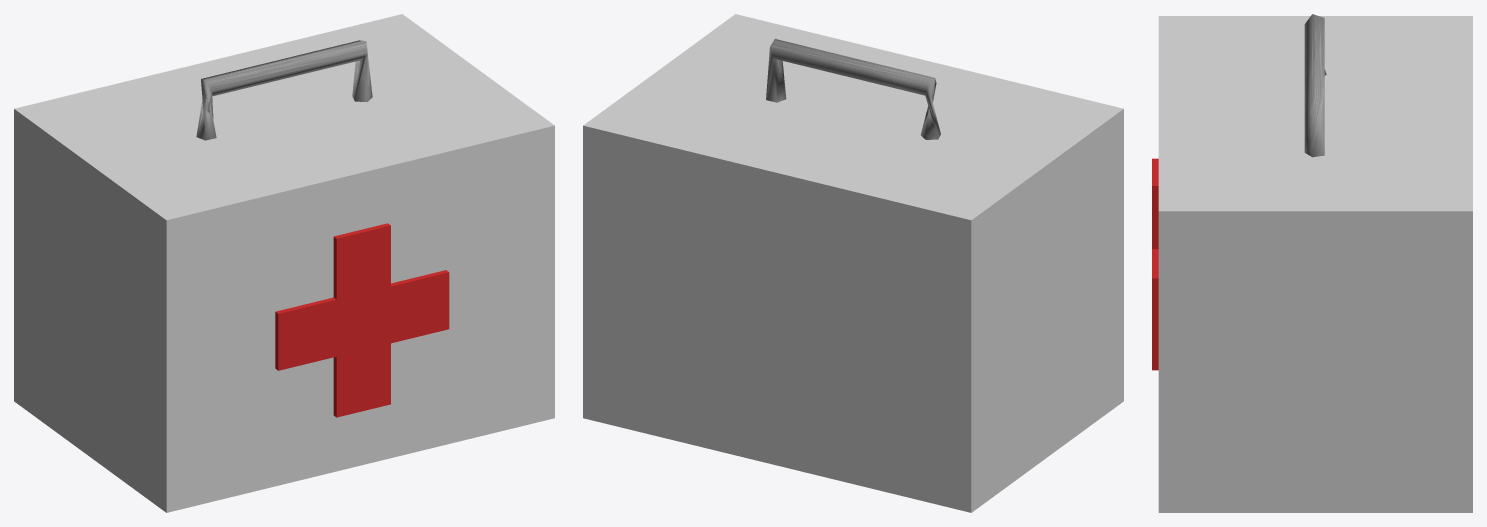
File: medkit.obj
3 renders of one model, left to right at view 1: azimuth 30°, elevation 25°; view 2: azimuth 150°, elevation 25°; view 3: azimuth 270°, elevation 25°, orthographic. The views are drawn at different scales.
Size of the model in its own units: 0.5 by 0.4309 by 0.347.
Materials: 3 (1 with a texture image).
